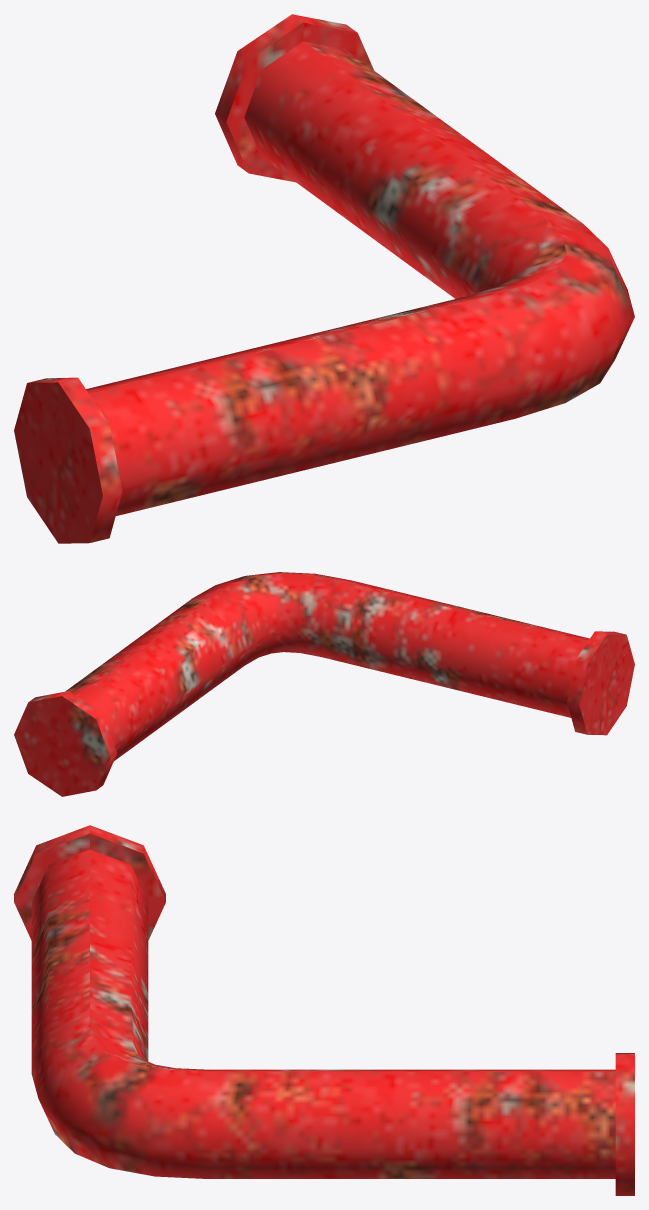
File: SM_PROP_PIPE_METAL_07.fbx
The picture shows the model from 3 angles, top to bottom: view 1: azimuth 30°, elevation 25°; view 2: azimuth 150°, elevation 25°; view 3: azimuth 270°, elevation 25°; orthographic projection. The views are drawn at different scales.
Visible parts, largest first — view 1: SM_PROP_PIPE_METAL_07; view 2: SM_PROP_PIPE_METAL_07; view 3: SM_PROP_PIPE_METAL_07.
Boxes of the visible parts, bbox=[...] form: SM_PROP_PIPE_METAL_07: bbox=[14, 14, 634, 543]; SM_PROP_PIPE_METAL_07: bbox=[14, 572, 634, 796]; SM_PROP_PIPE_METAL_07: bbox=[14, 825, 634, 1195].
Bounding box in the file's own units: 1.6 × 0.3917 × 1.6.
